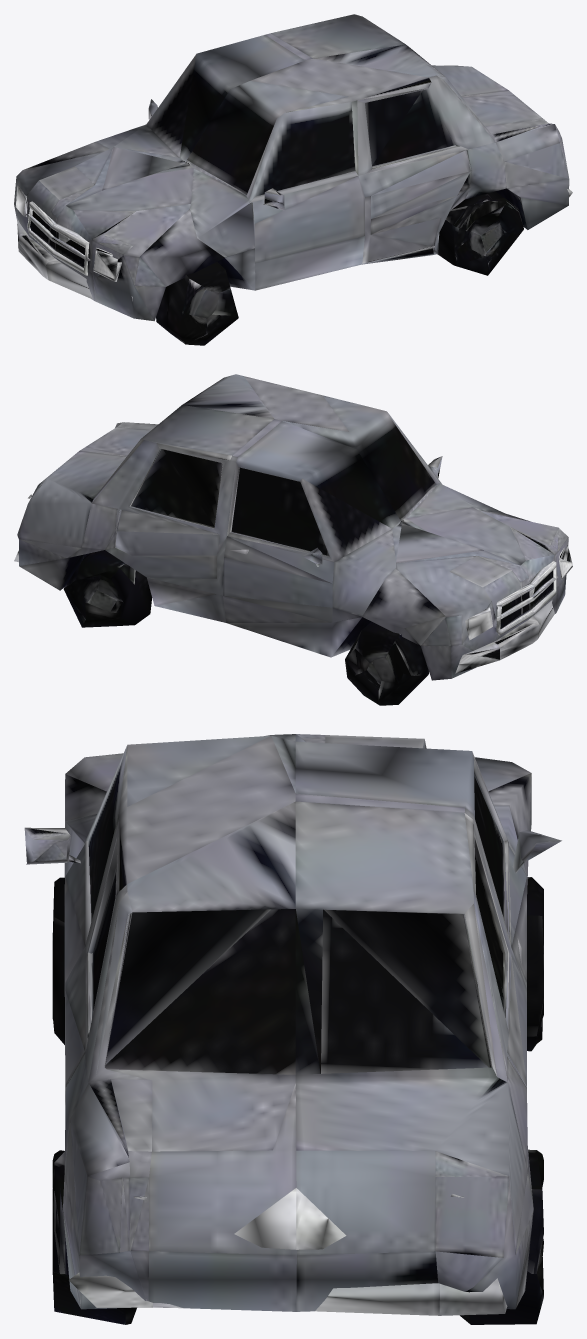
Rendered from 47-sedan-car.glb.
3 views of the same model, one above another, from view 1: azimuth 30°, elevation 25°; view 2: azimuth 150°, elevation 25°; view 3: azimuth 270°, elevation 25° (orthographic). The views are drawn at different scales.
Visible parts, largest first — view 1: geometry_0; view 2: geometry_0; view 3: geometry_0.
Part boxes in pixels (<box>): geometry_0: <box>14,14,572,345</box>; geometry_0: <box>14,374,572,705</box>; geometry_0: <box>24,734,561,1324</box>.
Size of the model in its own units: 0.9424 by 0.3833 by 0.46.
1 material, 1 textured.
